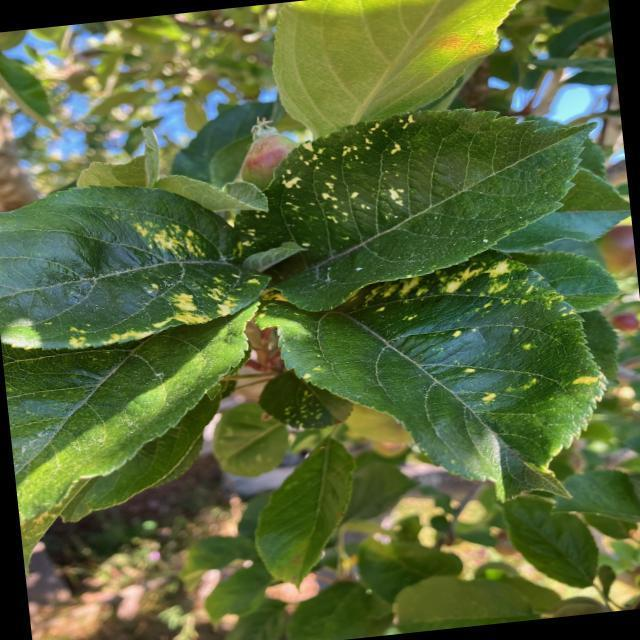Mosaic Virus: (332, 244, 596, 428), (0, 217, 235, 358), (266, 117, 428, 229)
